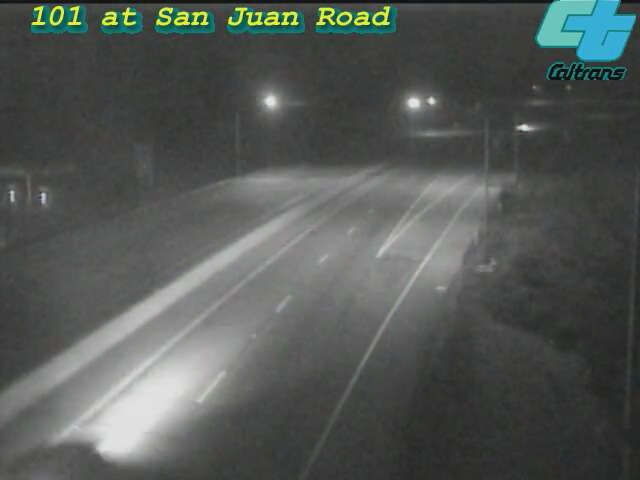vehicle: (1, 411, 102, 480), (498, 101, 548, 151)
